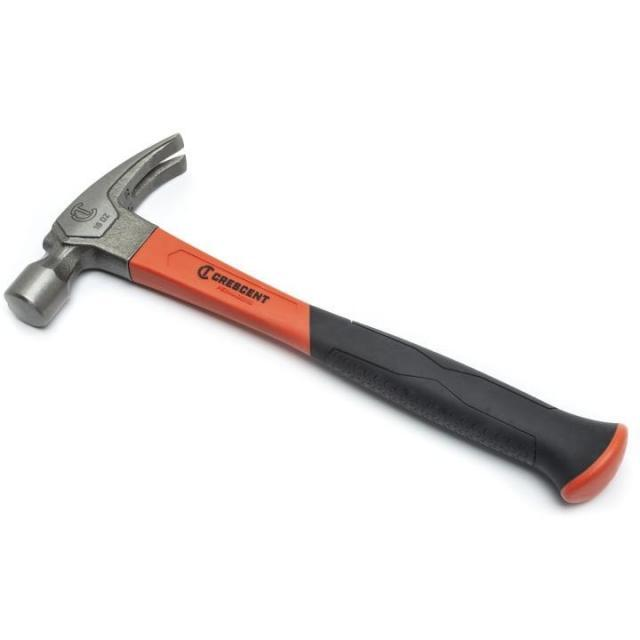hammer: (0, 120, 630, 518)
